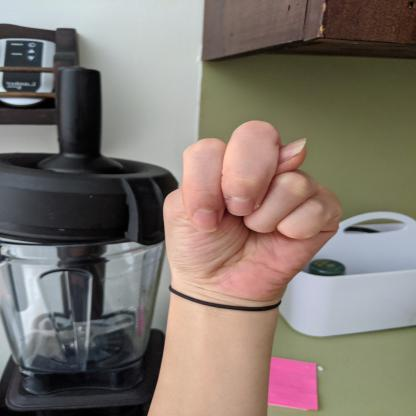N: (158, 117, 346, 299)
